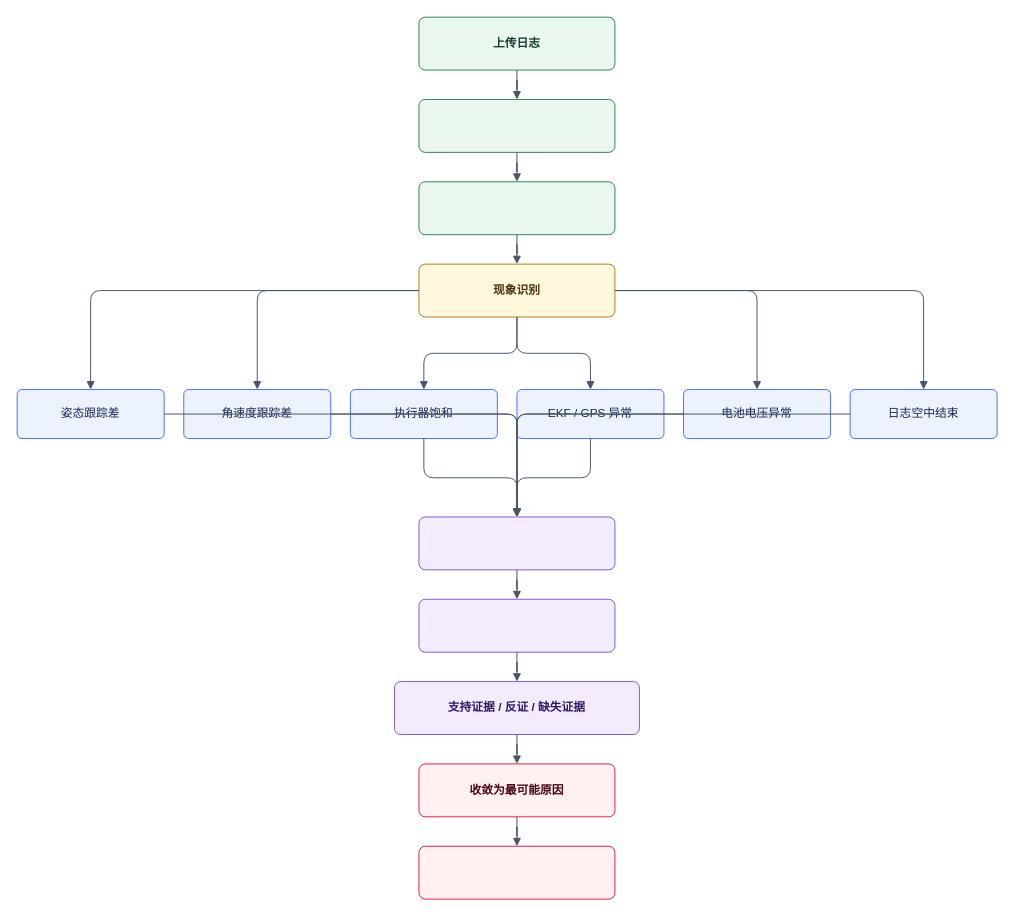
This 1014x916 diagram has some shape labels left out. Each missing label, with the box of its shape:
数据质量判断: (418, 98, 615, 152)
生成可能原因列表: (418, 516, 615, 570)
给出优化建议: (418, 845, 615, 899)
逐项排查相关数据: (418, 598, 615, 652)
飞行阶段识别: (418, 181, 615, 235)
